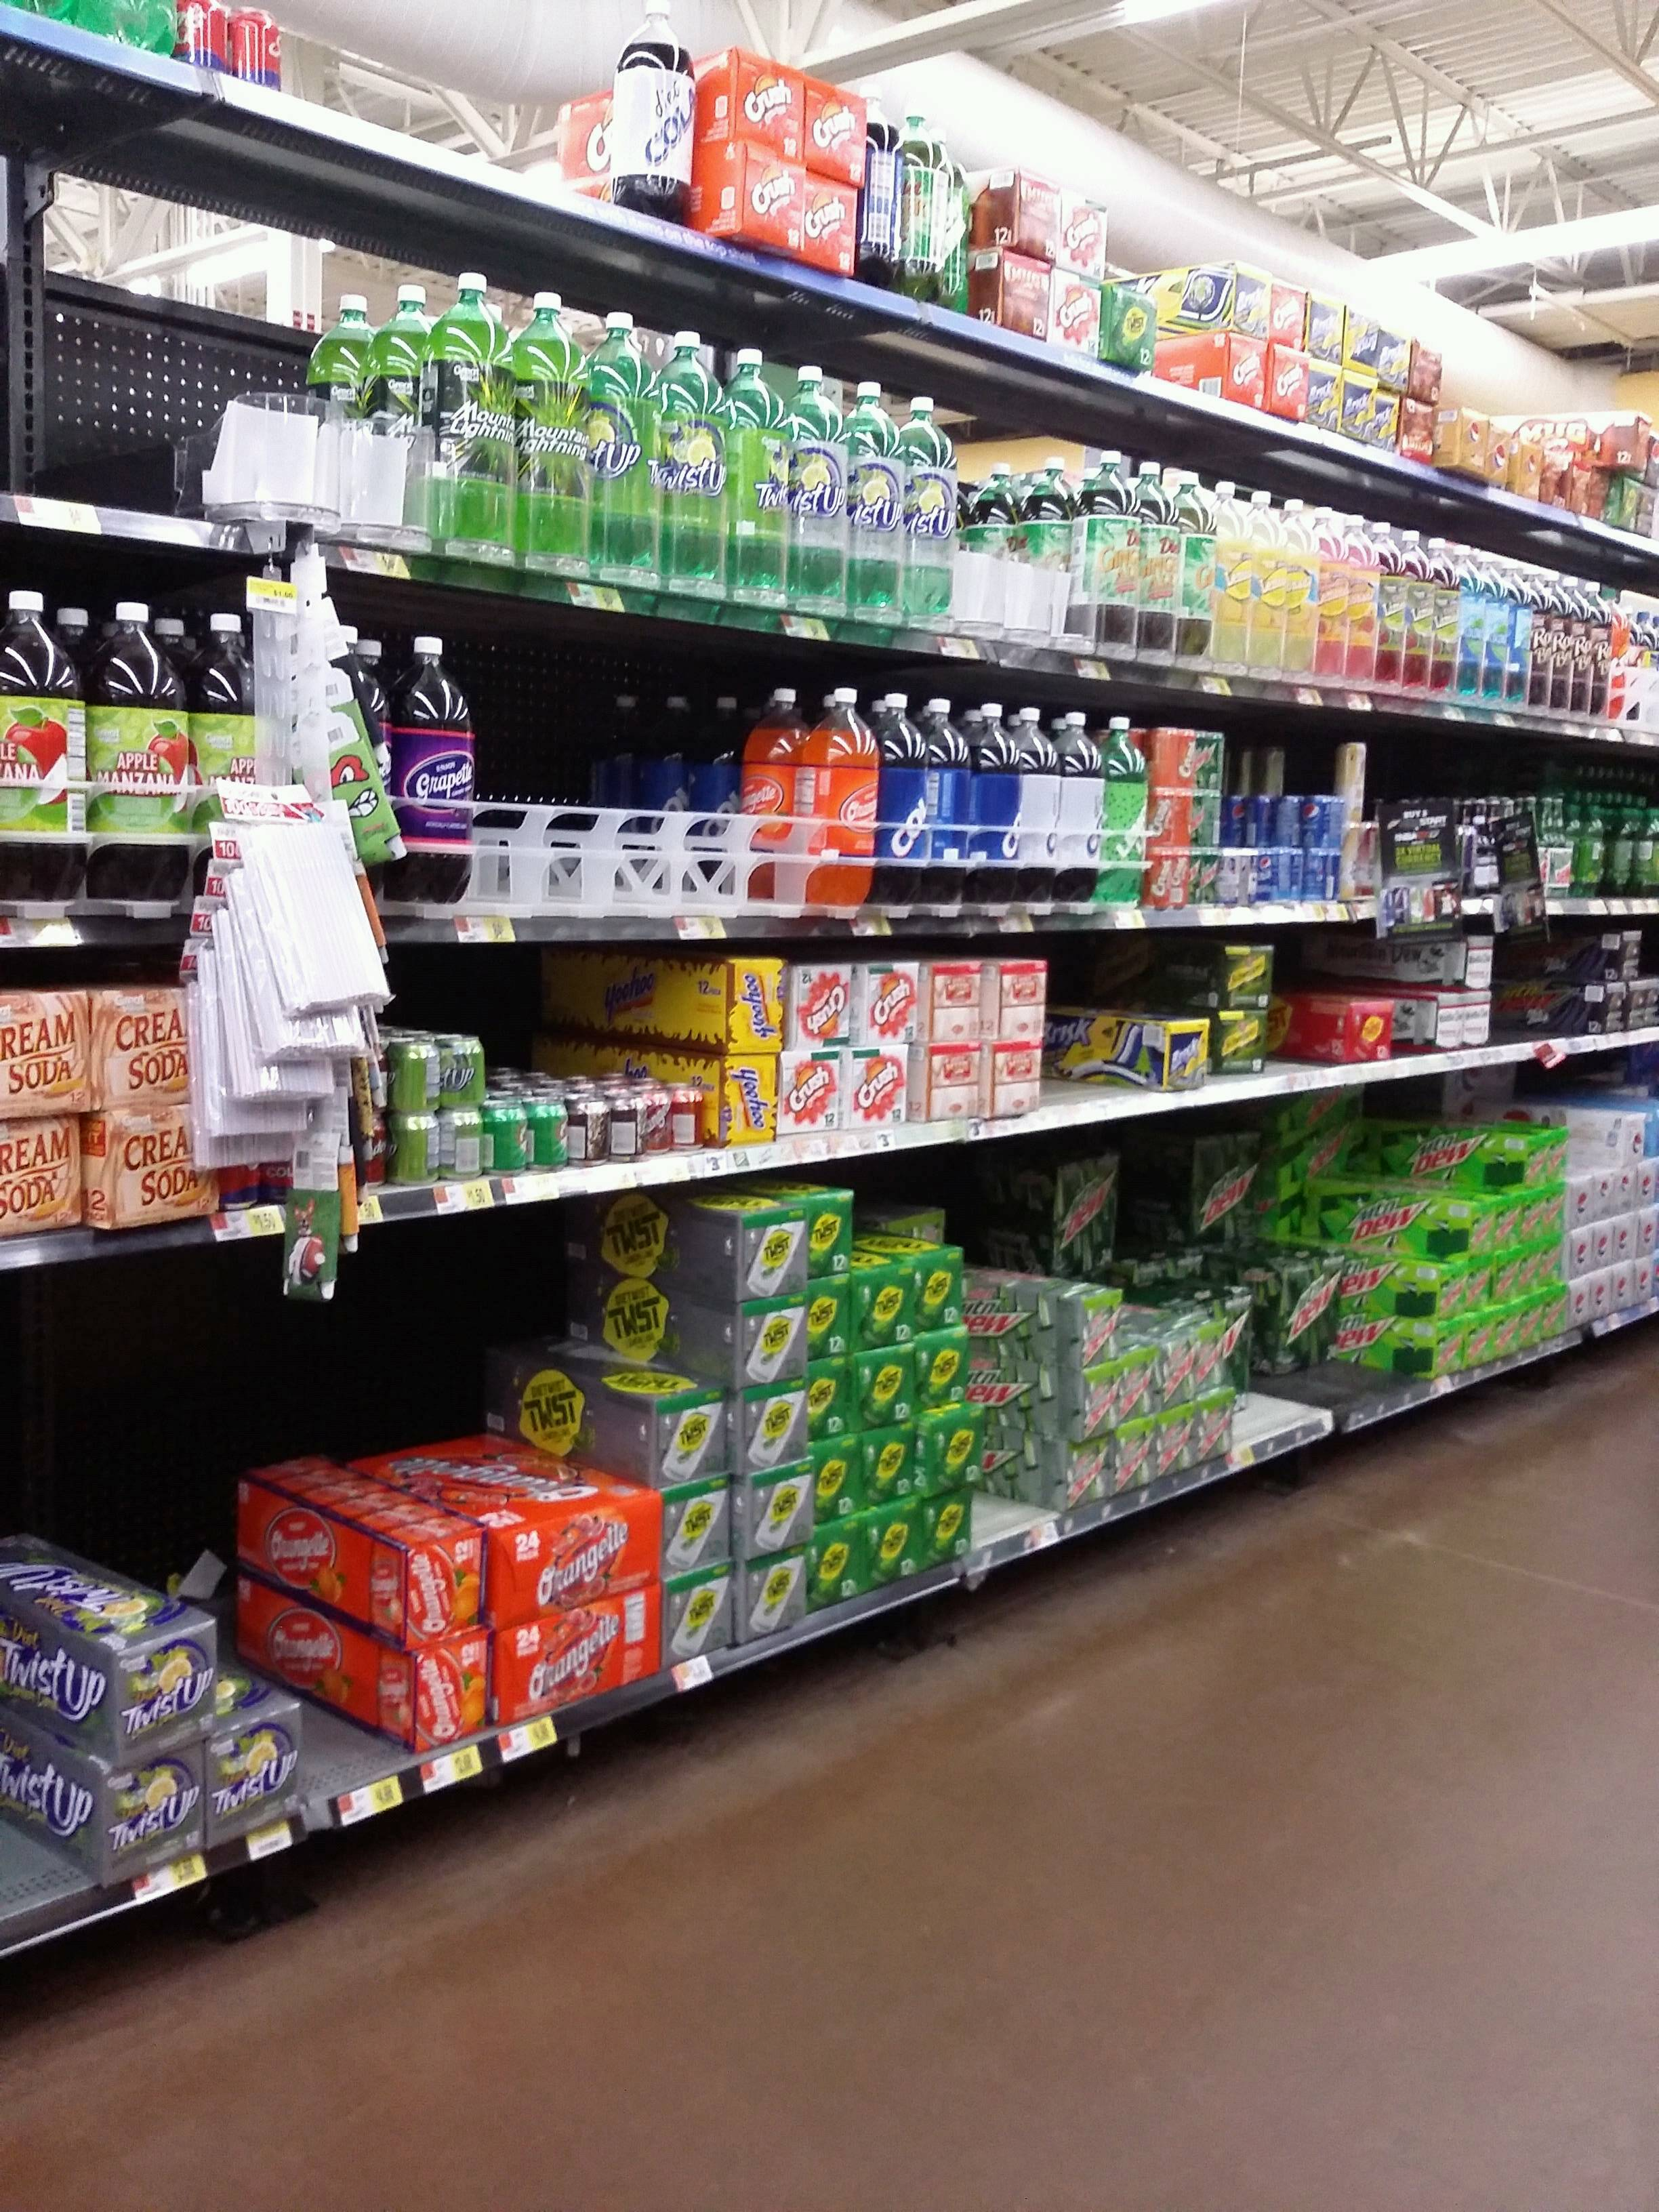Misplacement: (1260, 1129, 1422, 1397), (655, 1209, 732, 1665), (558, 982, 704, 1179), (976, 1292, 1066, 1564)
Out-of-stock: (312, 1595, 410, 1824), (1042, 941, 1162, 1111), (1495, 925, 1603, 1050), (1269, 1000, 1349, 1082)
